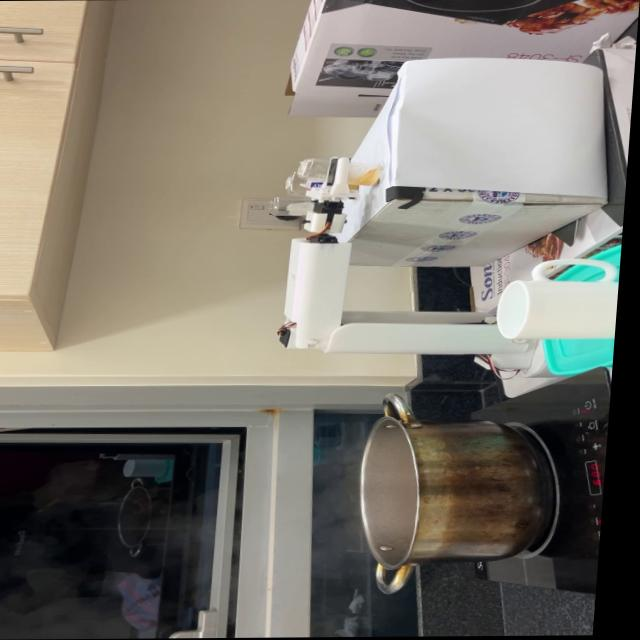cooking_pot: (357, 392, 576, 593)
garlic_powder: (350, 166, 387, 186)
